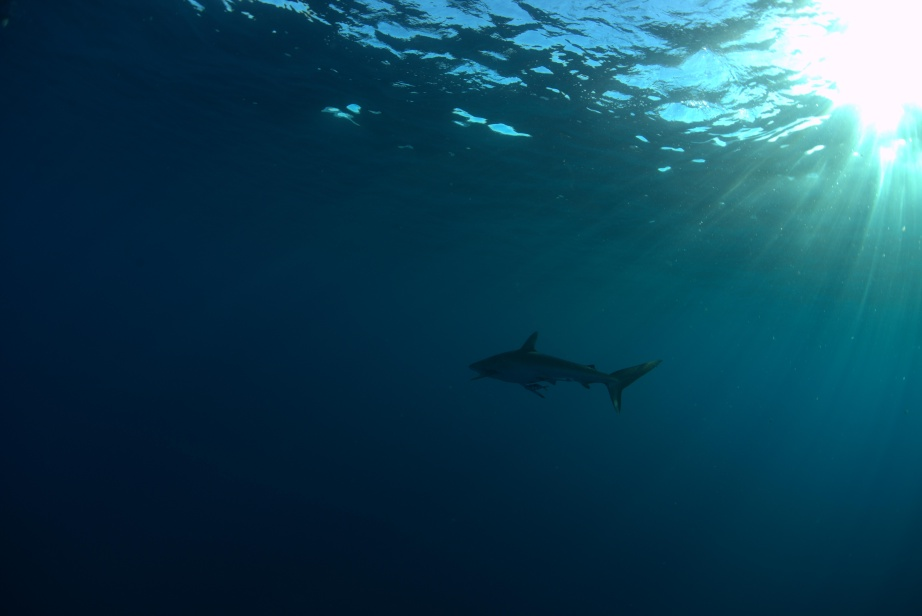Sedoso: (432, 324, 677, 416)
